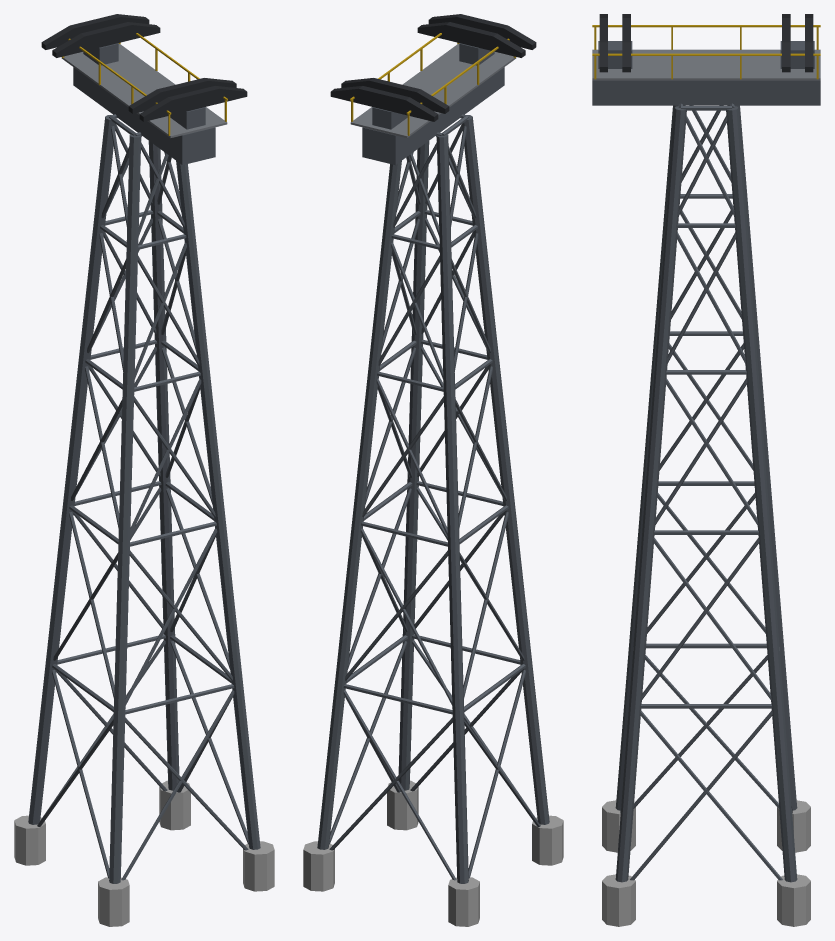
Rendered from tram_tower.obj.
3 renders of one model, left to right at view 1: azimuth 30°, elevation 25°; view 2: azimuth 150°, elevation 25°; view 3: azimuth 270°, elevation 25°, orthographic. The views are drawn at different scales.
Bounding box in the file's own units: 7.34 × 33.02 × 8.
